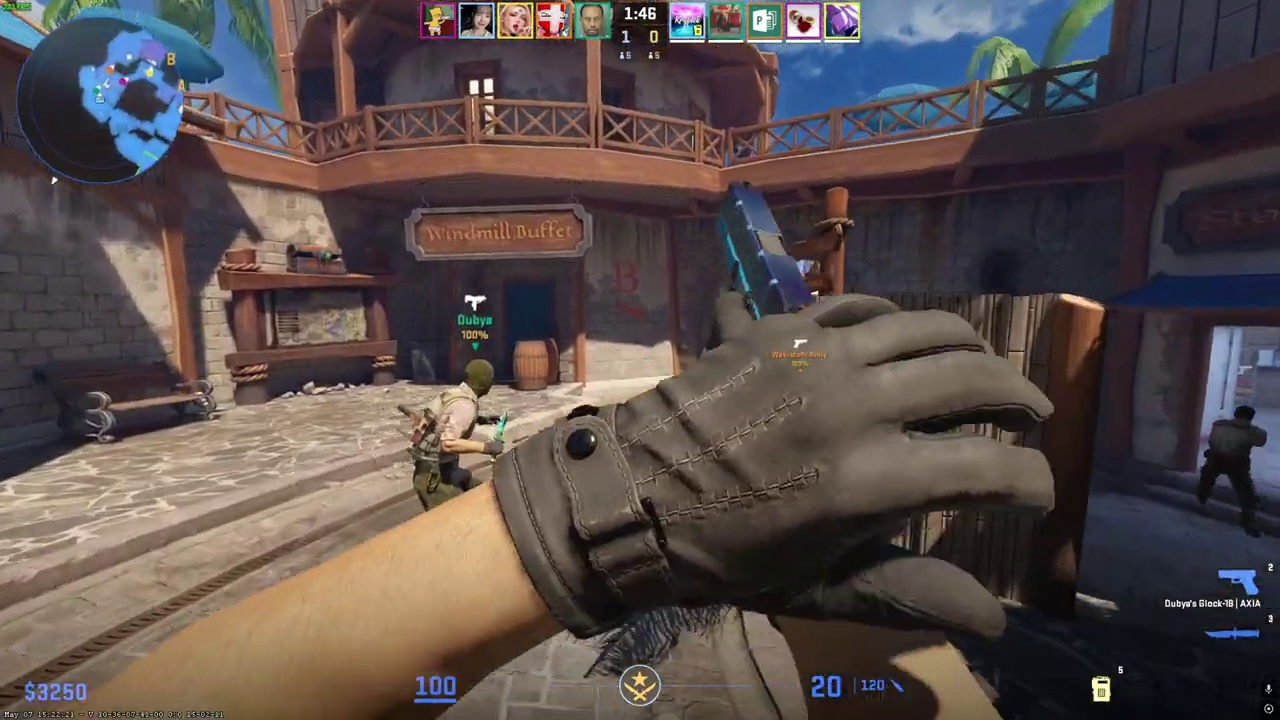Terrorist: (409, 359, 496, 513), (1198, 406, 1268, 531)
